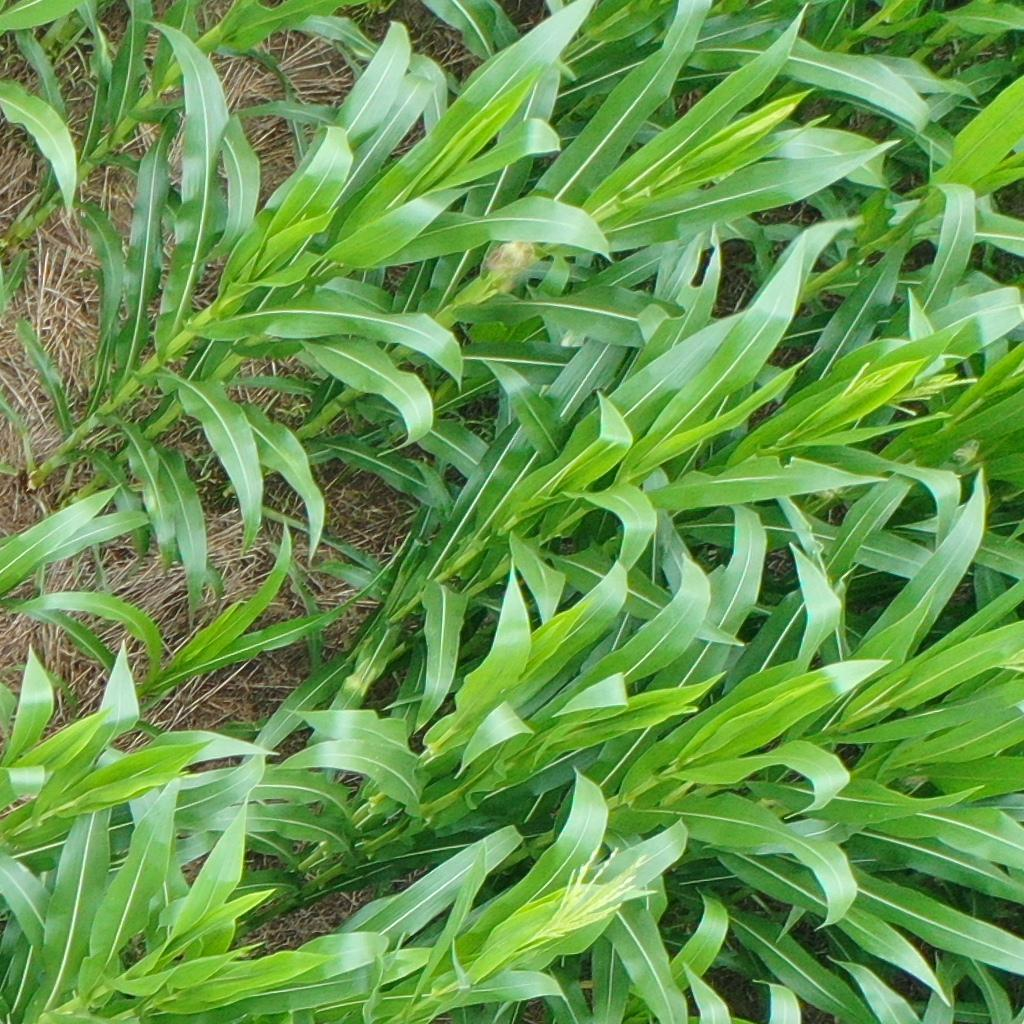Tassel: (531, 838, 659, 950), (839, 349, 978, 424), (725, 100, 796, 142)
